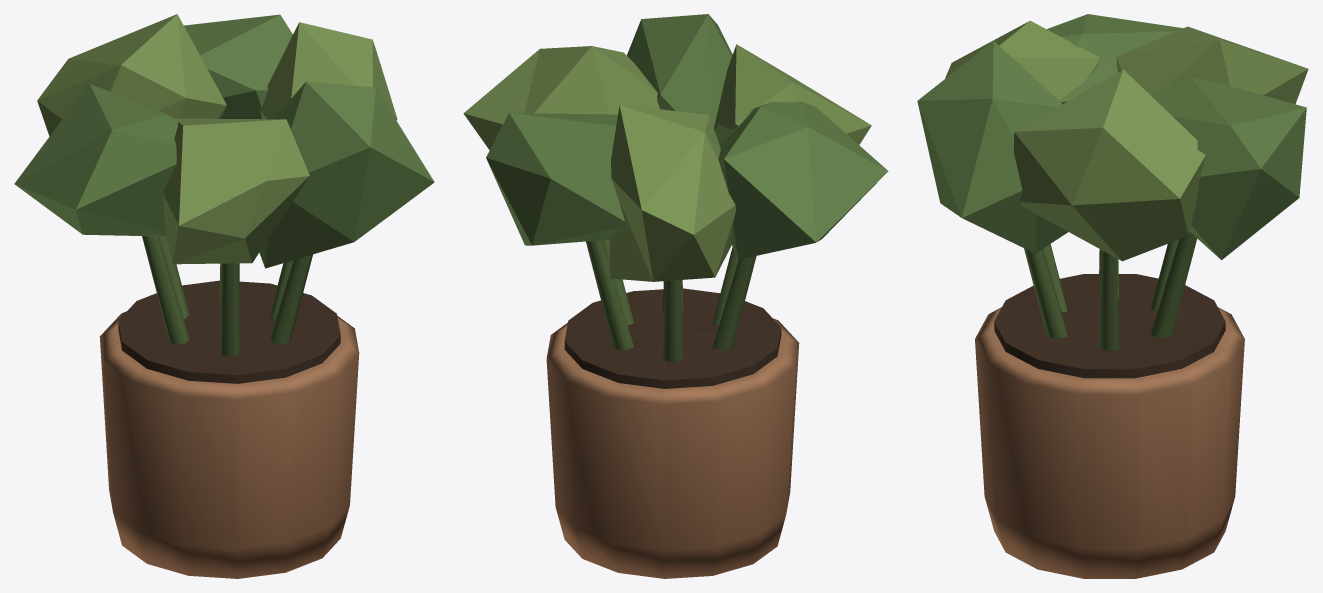
The model's file is potted_herb.glb.
3 renders of one model, left to right at view 1: azimuth 30°, elevation 25°; view 2: azimuth 150°, elevation 25°; view 3: azimuth 270°, elevation 25°, orthographic. The views are drawn at different scales.
Visible parts, largest first — view 1: potted_herb; view 2: potted_herb; view 3: potted_herb.
Boxes of the visible parts, x1,y1,x2,y2 form: potted_herb: (14, 14, 434, 578); potted_herb: (463, 14, 888, 578); potted_herb: (917, 14, 1308, 578).
Size of the model in its own units: 0.2271 by 0.2864 by 0.2029.
